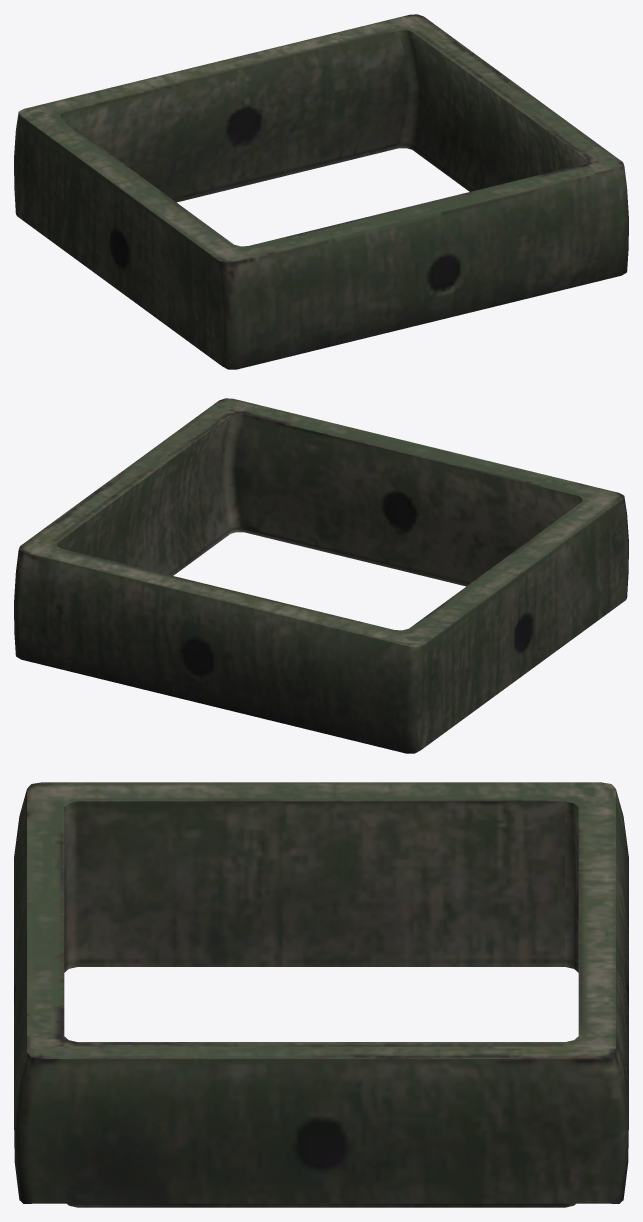
Rendered from Turret_01.glb.
3 renders of one model, top to bottom at view 1: azimuth 30°, elevation 25°; view 2: azimuth 150°, elevation 25°; view 3: azimuth 270°, elevation 25°, orthographic. The views are drawn at different scales.
Parts seen in each view (by area): view 1: set_0_group_0; view 2: set_0_group_0; view 3: set_0_group_0.
Part boxes in pixels (<box>): set_0_group_0: <box>14,14,628,369</box>; set_0_group_0: <box>14,398,628,753</box>; set_0_group_0: <box>14,782,628,1207</box>.
Bounding box in the file's own units: 0.86 × 0.24 × 0.808.
Materials: 1 (1 with a texture image).
